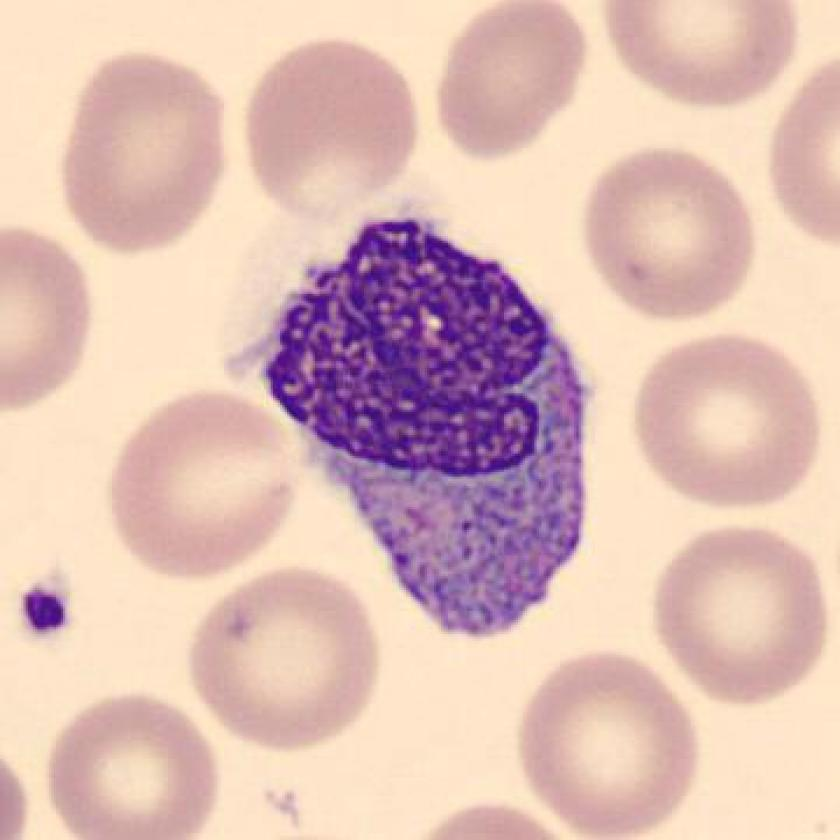monocyte: (216, 186, 610, 663)
